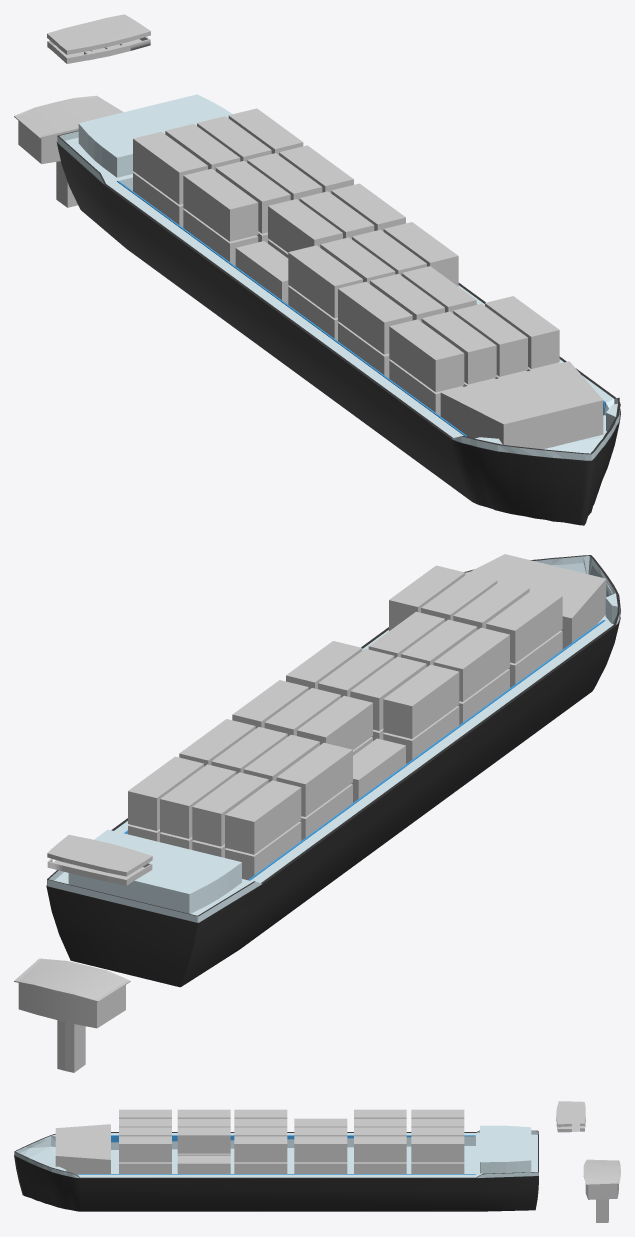
Rendered from kanker_ship.FBX.
3 renders of one model, top to bottom at view 1: azimuth 30°, elevation 25°; view 2: azimuth 150°, elevation 25°; view 3: azimuth 270°, elevation 25°, orthographic. The views are drawn at different scales.
Visible parts, largest first — view 1: Boot, Box049, Box050, Box048, Box032, Box044, Box028, Box040, Box035, Box047, Box045, Box046 (+21 smaller); view 2: Boot, Box050, Box049, Box040, Box028, Box048, Box032, Box044, Box035, Box027, Box026, Box025 (+21 smaller); view 3: Boot, Box049, Box050, Box042, Box025, Box033, Box037, Box029, Box045, Box017, roof, Box001 (+21 smaller).
Boxes of the visible parts, x1=… form: Boot: x1=56, y1=94, x2=620, y2=525; Box049: x1=440, y1=361, x2=603, y2=449; Box050: x1=14, y1=95, x2=123, y2=207; Box048: x1=389, y1=319, x2=464, y2=392; Box032: x1=183, y1=168, x2=258, y2=241; Box044: x1=338, y1=281, x2=412, y2=354; Box028: x1=133, y1=131, x2=207, y2=204; Box040: x1=288, y1=245, x2=362, y2=318; Box035: x1=268, y1=199, x2=342, y2=252; Box047: x1=421, y1=311, x2=496, y2=384; Box045: x1=485, y1=296, x2=559, y2=368; Box046: x1=453, y1=303, x2=527, y2=376; Boot: x1=46, y1=555, x2=620, y2=987; Box050: x1=14, y1=958, x2=130, y2=1072; Box049: x1=465, y1=554, x2=606, y2=649; Box040: x1=383, y1=664, x2=459, y2=738; Box028: x1=225, y1=780, x2=301, y2=854; Box048: x1=486, y1=589, x2=562, y2=663; Box032: x1=276, y1=742, x2=352, y2=816; Box044: x1=433, y1=627, x2=509, y2=701; Box035: x1=297, y1=695, x2=372, y2=749; Box027: x1=192, y1=772, x2=268, y2=846; Box026: x1=160, y1=764, x2=236, y2=838; Box025: x1=128, y1=756, x2=203, y2=830; Boot: x1=14, y1=1125, x2=538, y2=1211; Box049: x1=55, y1=1124, x2=110, y2=1175; Box050: x1=583, y1=1159, x2=620, y2=1222; Box042: x1=177, y1=1127, x2=230, y2=1153; Box025: x1=411, y1=1136, x2=464, y2=1162; Box033: x1=294, y1=1136, x2=347, y2=1162; Box037: x1=234, y1=1136, x2=287, y2=1162; Box029: x1=354, y1=1136, x2=406, y2=1162; Box045: x1=119, y1=1136, x2=171, y2=1162; Box017: x1=177, y1=1155, x2=230, y2=1173; roof: x1=556, y1=1101, x2=585, y2=1126; Box001: x1=411, y1=1162, x2=464, y2=1173.
Bounding box in the file's own units: 2180 × 2371 × 12099.
